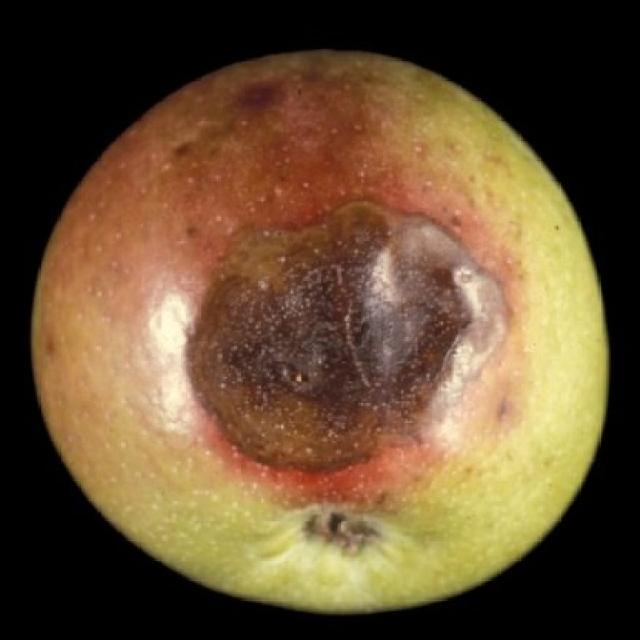Rotten Apple: (26, 45, 611, 617)
